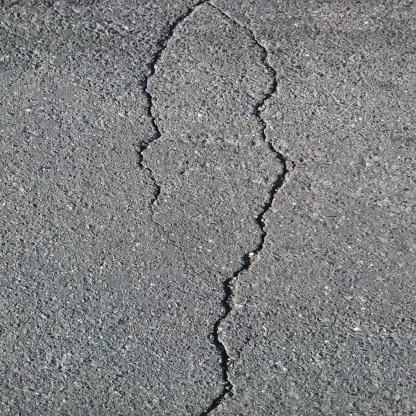Cracks: (194, 1, 299, 416), (124, 1, 206, 209)
